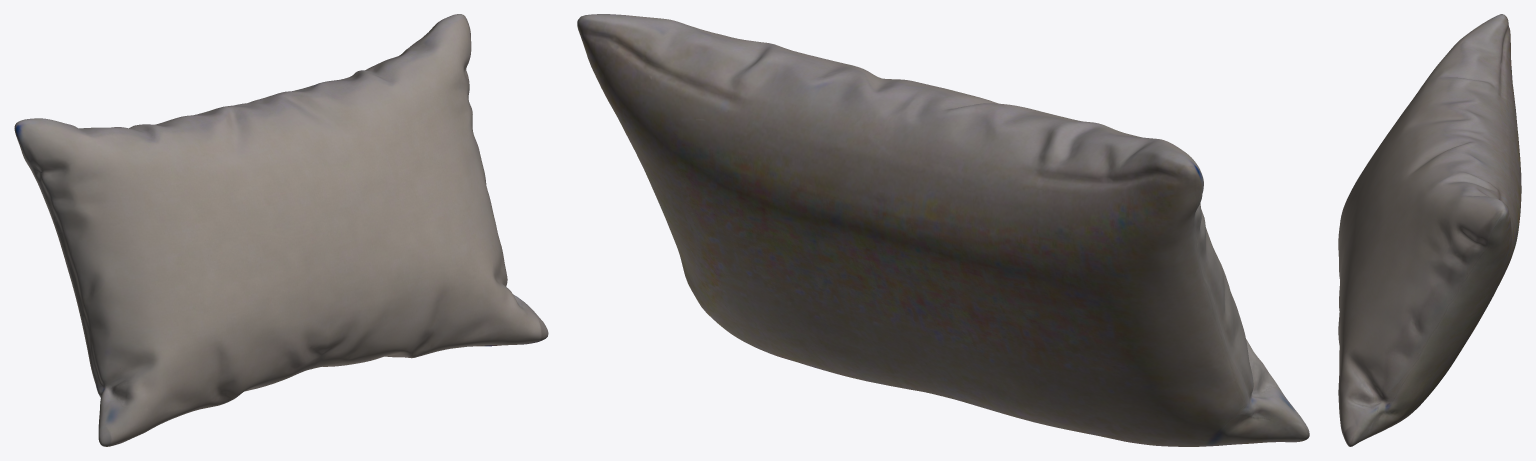
The model's file is 3d_model_single_pillo_1004153748_refine.fbx.
3 renders of one model, left to right at view 1: azimuth 30°, elevation 25°; view 2: azimuth 150°, elevation 25°; view 3: azimuth 270°, elevation 25°, orthographic. The views are drawn at different scales.
Parts seen in each view (by area): view 1: file1; view 2: file1; view 3: file1.
Boxes of the visible parts, box(x1,y1,x2,y2) form: file1: box(14, 14, 548, 446); file1: box(577, 14, 1309, 446); file1: box(1338, 14, 1521, 446).
Size of the model in its own units: 199 by 112 by 77.46.
1 material, 1 textured.
